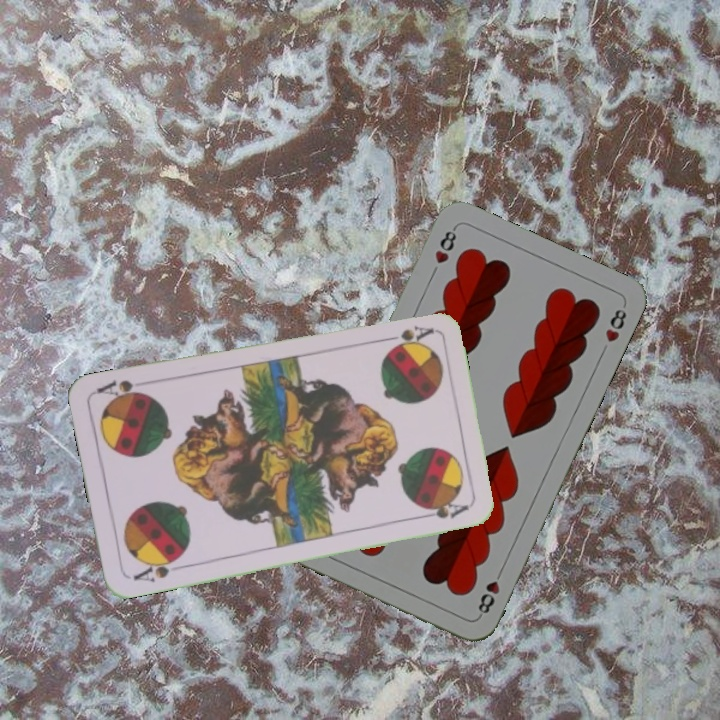H8: (473, 564, 506, 620), (430, 223, 459, 267)
SA: (129, 552, 183, 585), (377, 322, 436, 350)
